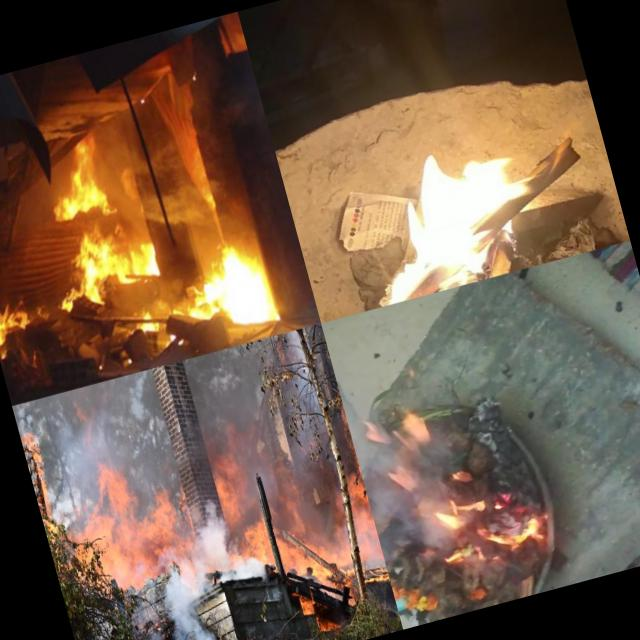fire: (338, 124, 554, 308), (68, 451, 194, 583), (178, 232, 282, 344), (50, 212, 164, 304), (41, 148, 112, 224), (329, 458, 382, 558), (276, 524, 338, 588), (22, 423, 62, 522), (208, 451, 254, 524), (0, 267, 36, 357), (238, 512, 276, 566), (125, 304, 166, 342)
smoke: (358, 436, 504, 629), (32, 372, 174, 483), (116, 542, 276, 634), (185, 341, 278, 459), (238, 430, 336, 512), (178, 488, 232, 558), (130, 610, 243, 640)
